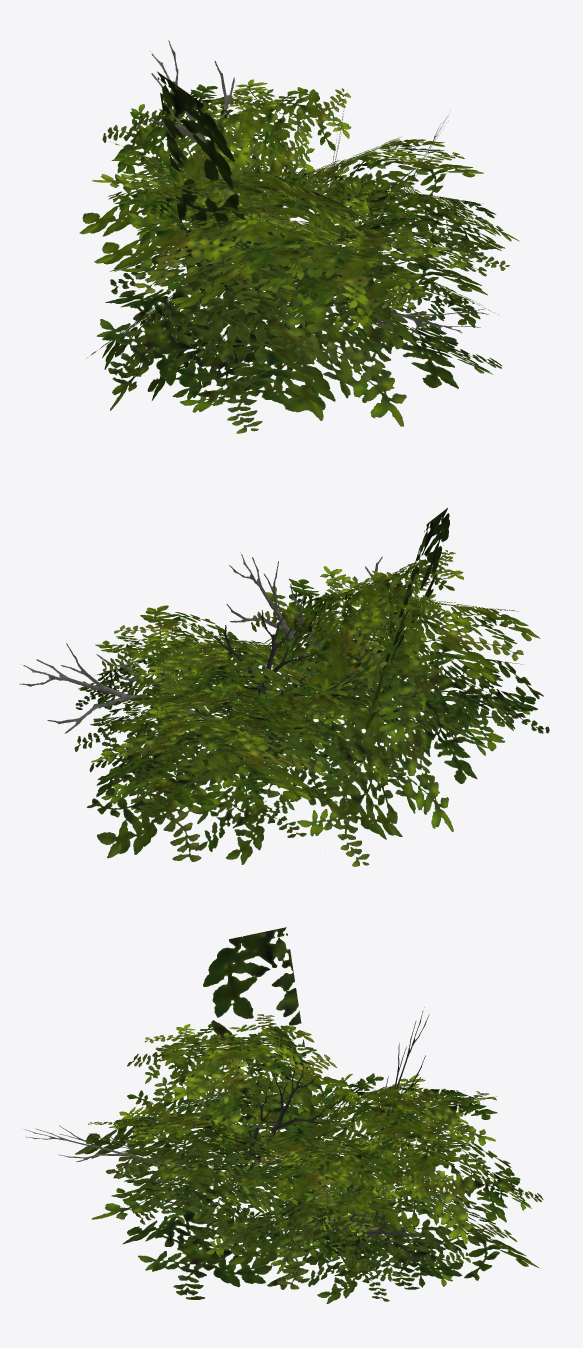
The model's file is jz_guanmu01_53_32_1144out.fbx.
3 renders of one model, top to bottom at view 1: azimuth 30°, elevation 25°; view 2: azimuth 150°, elevation 25°; view 3: azimuth 270°, elevation 25°, orthographic. The views are drawn at different scales.
Parts seen in each view (by area): view 1: jz_guanmu01; view 2: jz_guanmu01; view 3: jz_guanmu01.
Boxes of the visible parts, bbox=[...] form: jz_guanmu01: bbox=[79, 40, 519, 433]; jz_guanmu01: bbox=[20, 508, 549, 866]; jz_guanmu01: bbox=[22, 927, 543, 1303].
Bounding box in the file's own units: 2.21 × 1.43 × 2.43.
